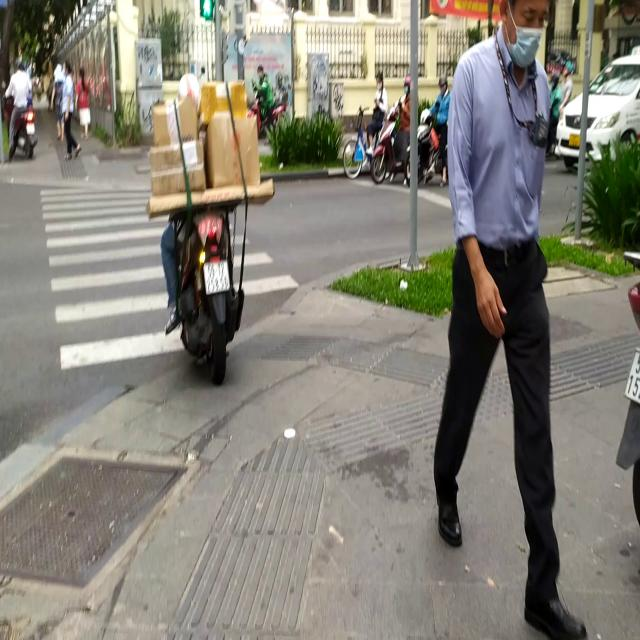bien_trang: (205, 257, 230, 292)
